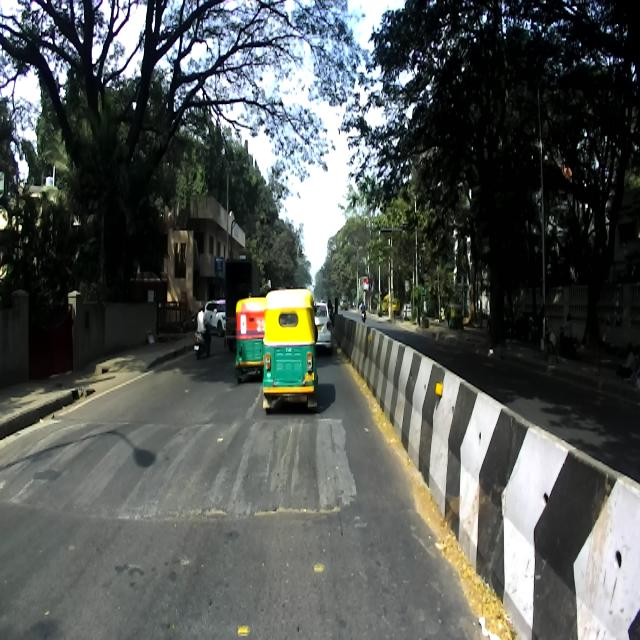auto ahead at: (264, 285, 320, 417), (237, 301, 270, 377)
